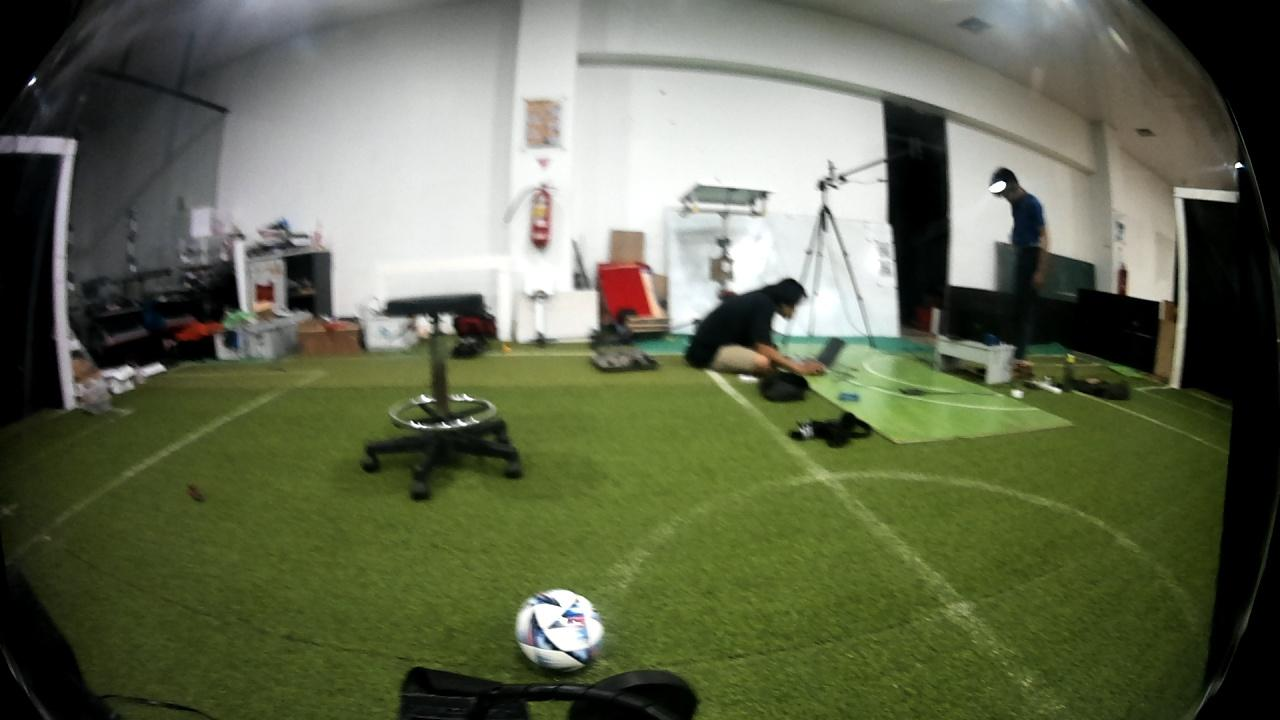ball: (509, 583, 608, 683)
